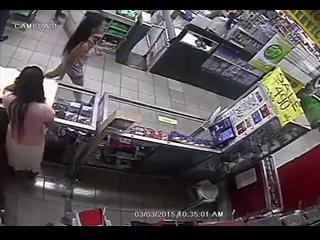Normal: (2, 66, 59, 179), (44, 12, 107, 86)
